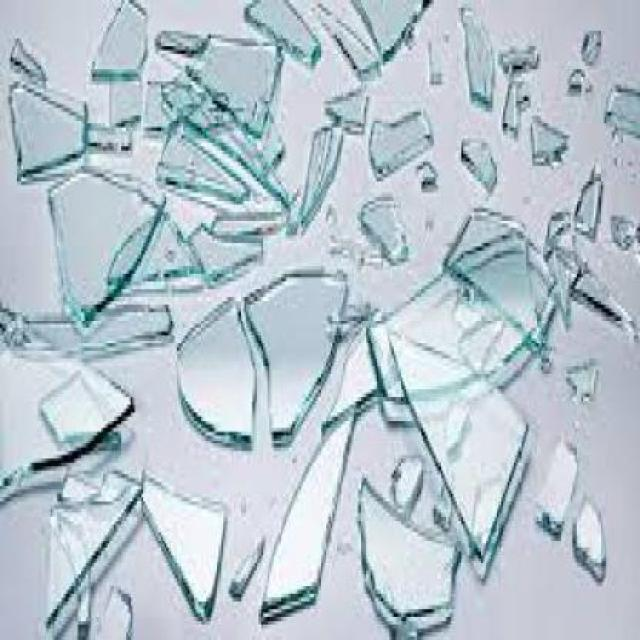kaca: (388, 328, 524, 566), (318, 263, 518, 417), (0, 304, 131, 482), (257, 405, 355, 617), (49, 170, 163, 324), (154, 69, 286, 200), (245, 269, 343, 440), (355, 474, 457, 637), (40, 470, 137, 624), (136, 466, 227, 617), (440, 200, 535, 343), (172, 289, 252, 448), (366, 312, 472, 410), (183, 28, 282, 130), (0, 297, 169, 352), (154, 116, 257, 204), (5, 77, 86, 185), (106, 200, 197, 274), (35, 366, 114, 451), (309, 0, 376, 92), (46, 517, 96, 635), (200, 202, 303, 256), (568, 258, 634, 331), (184, 217, 262, 278), (88, 0, 148, 77), (243, 0, 317, 62), (297, 112, 337, 223), (348, 0, 430, 54), (352, 189, 410, 262), (536, 428, 578, 528), (543, 190, 575, 316), (370, 105, 432, 166), (457, 0, 491, 100), (499, 0, 543, 66), (571, 497, 606, 578), (320, 77, 366, 135), (91, 571, 132, 635), (525, 223, 552, 320), (153, 20, 210, 58), (392, 448, 422, 520), (570, 166, 598, 239), (602, 81, 638, 136), (106, 74, 140, 131), (458, 131, 491, 189), (84, 115, 128, 158), (8, 36, 50, 81), (564, 351, 596, 409), (92, 460, 132, 506), (529, 104, 563, 158), (228, 532, 262, 586), (51, 463, 92, 505), (429, 470, 449, 524), (422, 27, 440, 84), (500, 69, 517, 128), (257, 112, 278, 158), (329, 232, 366, 255), (605, 212, 632, 243), (414, 158, 434, 184), (580, 28, 597, 58), (564, 58, 584, 82)
